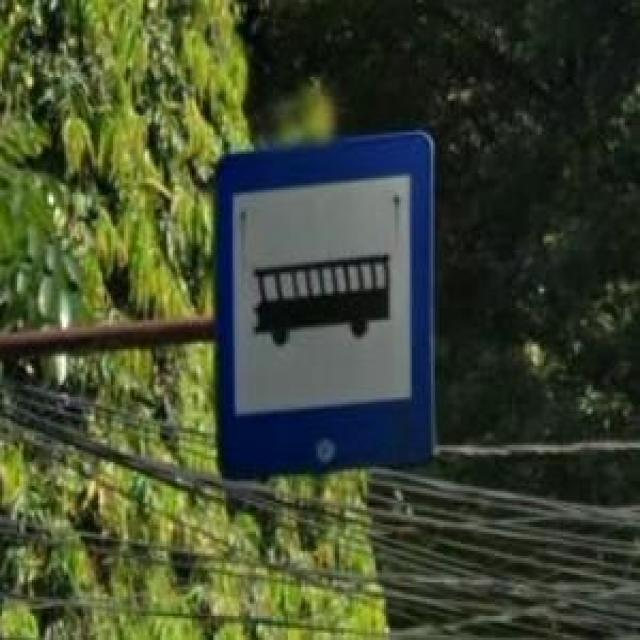traffic sign: (216, 130, 438, 476)
